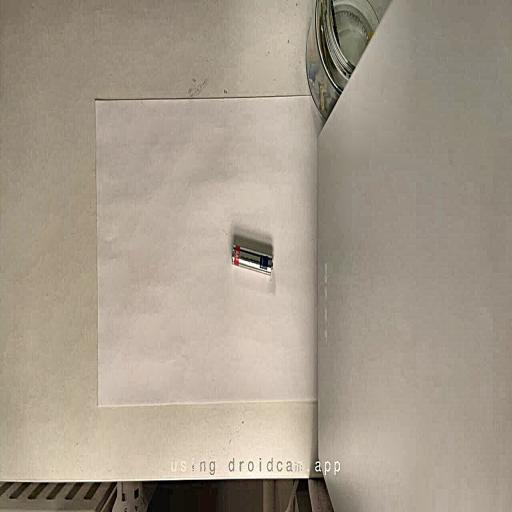RainbowAA: (232, 245, 273, 275)
